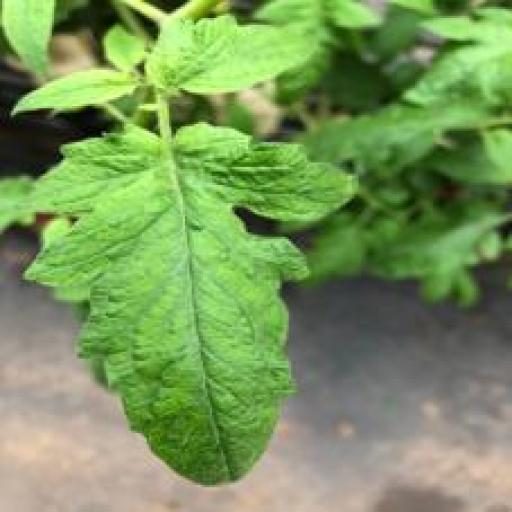Healthy: (10, 123, 360, 488), (147, 14, 317, 97), (10, 69, 144, 114)
